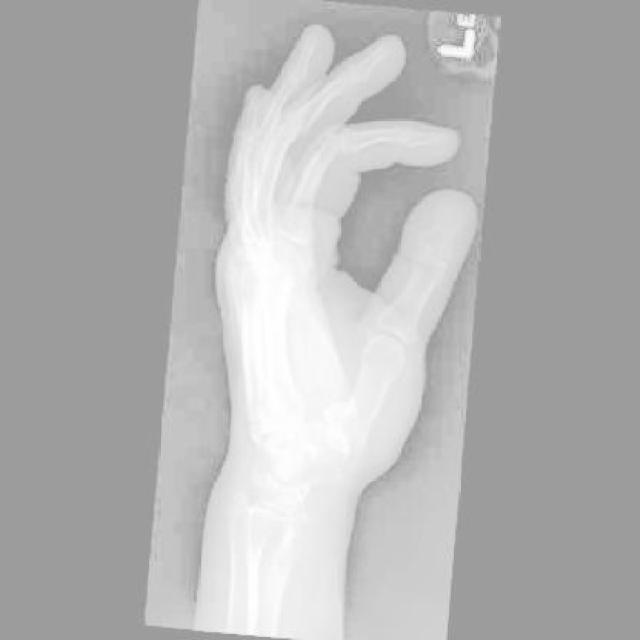Fracture: (317, 388, 357, 433)
